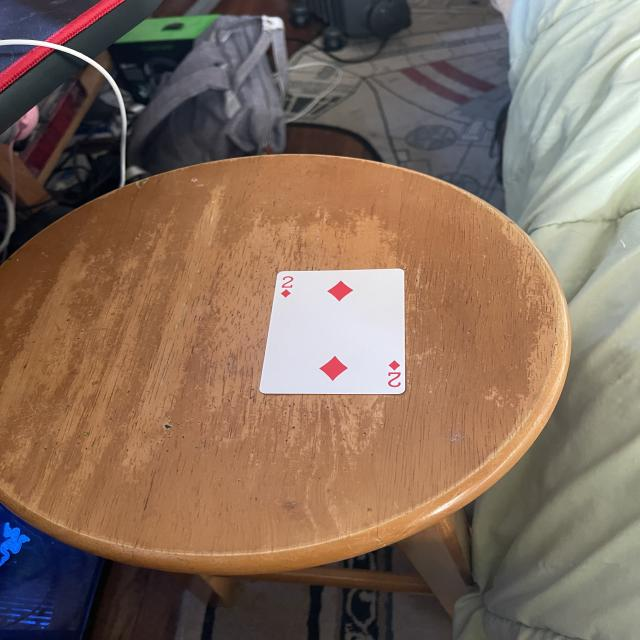2 of diamonds: (261, 268, 403, 392)
